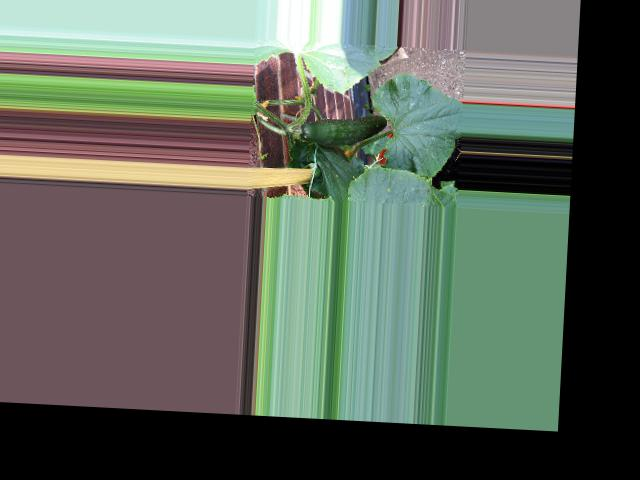cucumber: (299, 110, 387, 148)
